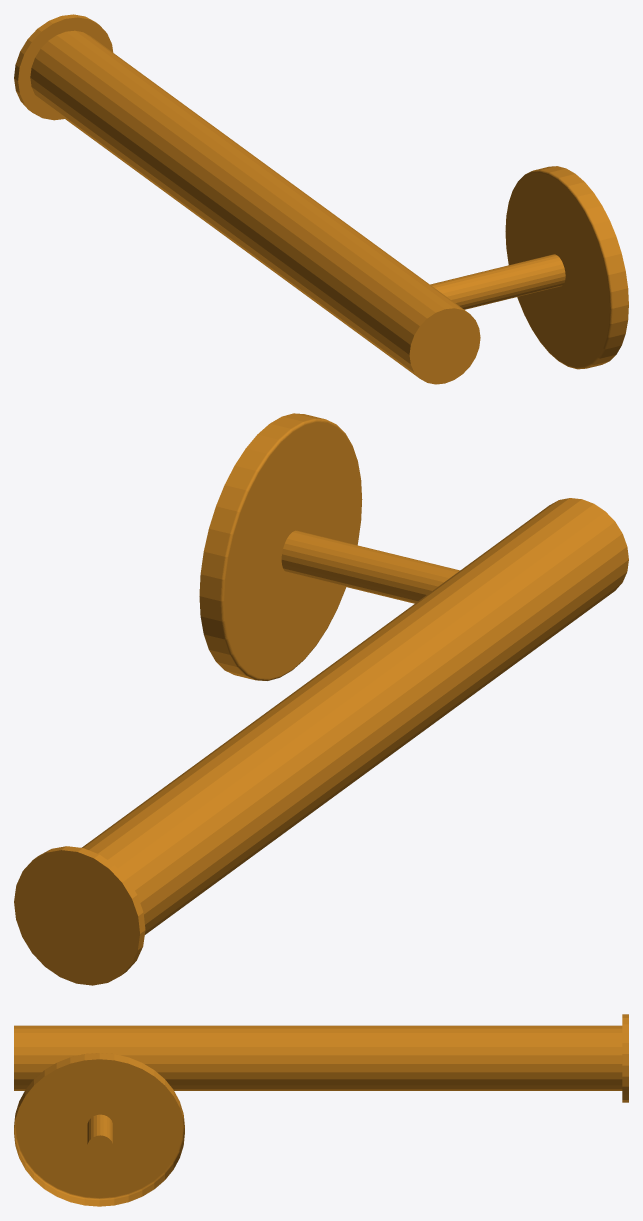
The model's file is toilet roll handler.obj.
3 views of the same model, one above another, from view 1: azimuth 30°, elevation 25°; view 2: azimuth 150°, elevation 25°; view 3: azimuth 270°, elevation 25° (orthographic). The views are drawn at different scales.
Visible parts, largest first — view 1: group_19_Material.001, group_15_Material.001, group_16_Material.001, group_18_Material.001; view 2: group_19_Material.001, group_15_Material.001, group_18_Material.001, group_16_Material.001; view 3: group_19_Material.001, group_15_Material.001, group_16_Material.001, group_18_Material.001.
Boxes of the visible parts, bbox=[...] form: group_19_Material.001: bbox=[30, 30, 480, 384]; group_15_Material.001: bbox=[505, 166, 628, 369]; group_16_Material.001: bbox=[430, 254, 565, 309]; group_18_Material.001: bbox=[14, 14, 113, 120]; group_19_Material.001: bbox=[81, 498, 628, 934]; group_15_Material.001: bbox=[199, 413, 362, 680]; group_18_Material.001: bbox=[14, 846, 145, 985]; group_16_Material.001: bbox=[281, 530, 459, 603]; group_19_Material.001: bbox=[14, 1025, 622, 1090]; group_15_Material.001: bbox=[14, 1053, 184, 1206]; group_16_Material.001: bbox=[87, 1114, 113, 1159]; group_18_Material.001: bbox=[622, 1014, 628, 1102].
Size of the model in its own units: 2.96 by 1.95 by 7.36.
